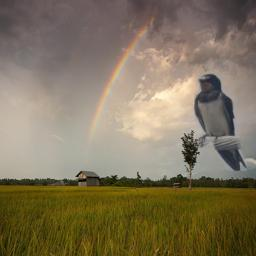Swallow: (194, 73, 247, 171)
